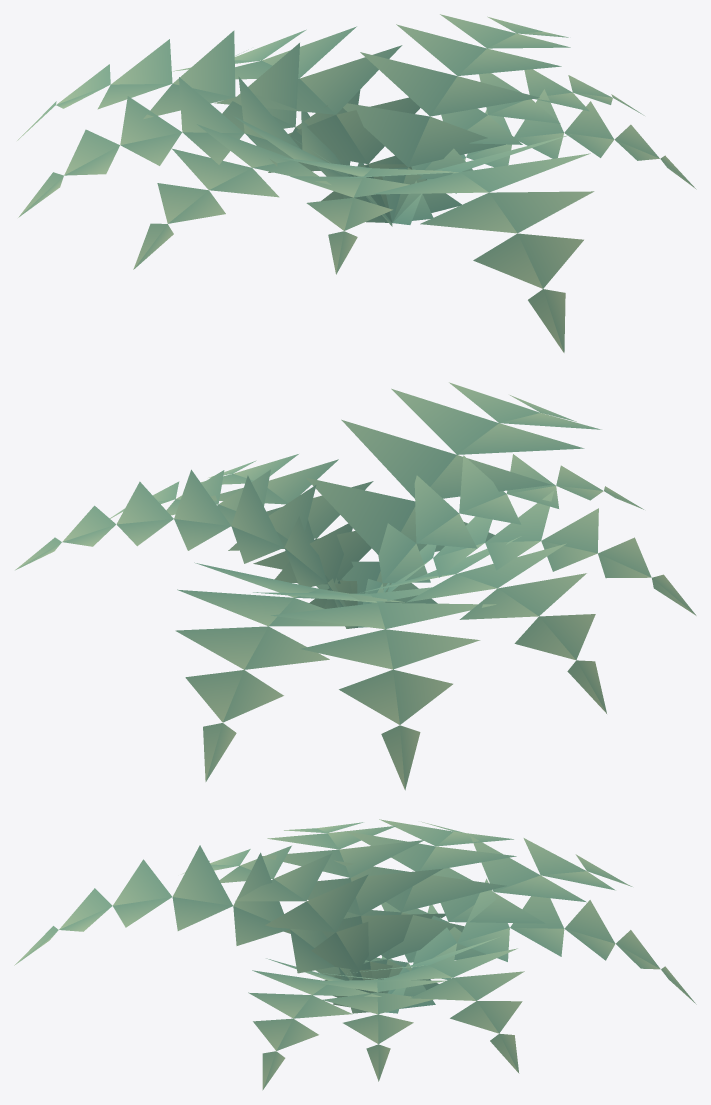
The model's file is fern_a.glb.
3 renders of one model, top to bottom at view 1: azimuth 30°, elevation 25°; view 2: azimuth 150°, elevation 25°; view 3: azimuth 270°, elevation 25°, orthographic. The views are drawn at different scales.
Parts seen in each view (by area): view 1: soft; view 2: soft; view 3: soft.
Part boxes in pixels (x1,y1,x2,y2): soft: [17, 14, 696, 352]; soft: [15, 382, 696, 790]; soft: [14, 819, 696, 1090].
Bounding box in the file's own units: 1.15 × 0.2745 × 1.38.
